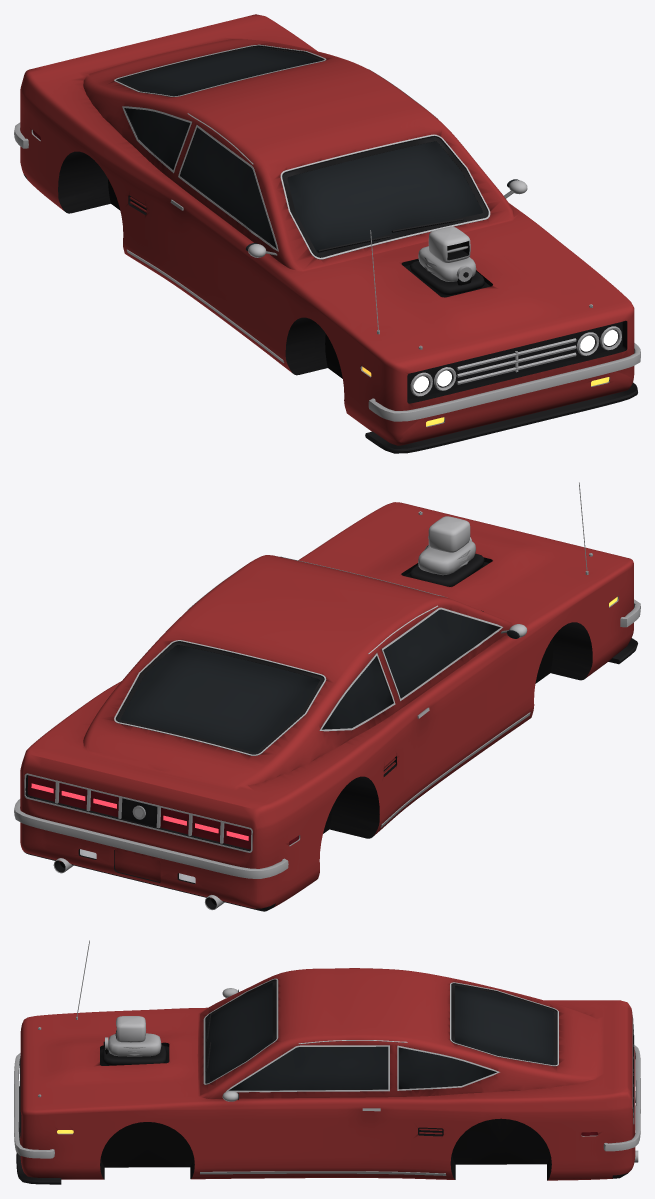
Rendered from brawler.m.glb.
3 renders of one model, top to bottom at view 1: azimuth 30°, elevation 25°; view 2: azimuth 150°, elevation 25°; view 3: azimuth 270°, elevation 25°, orthographic. The views are drawn at different scales.
Parts seen in each view (by area): view 1: paint_lodm, window_lodm, trim_lodm, chrome_lodm, grille_lodm, lens_lodm; view 2: paint_lodm, window_lodm, chrome_lodm, trim_lodm, tail_lodm, tailglow_lodm; view 3: paint_lodm, window_lodm, trim_lodm, chrome_lodm.
Part boxes in pixels (<box>): paint_lodm: <box>20,14,634,445</box>; window_lodm: <box>117,47,488,252</box>; trim_lodm: <box>23,45,637,453</box>; chrome_lodm: <box>14,44,640,427</box>; grille_lodm: <box>131,196,622,399</box>; lens_lodm: <box>413,329,617,392</box>; paint_lodm: <box>20,502,633,908</box>; window_lodm: <box>116,609,499,752</box>; chrome_lodm: <box>14,482,640,910</box>; trim_lodm: <box>23,553,637,911</box>; tail_lodm: <box>27,775,298,849</box>; tailglow_lodm: <box>31,783,248,840</box>; paint_lodm: <box>20,968,635,1180</box>; window_lodm: <box>210,980,556,1090</box>; trim_lodm: <box>16,979,633,1184</box>; chrome_lodm: <box>14,940,640,1175</box>.
Size of what is drawn, in the model's own units: 2.01 by 1.32 by 4.89.
